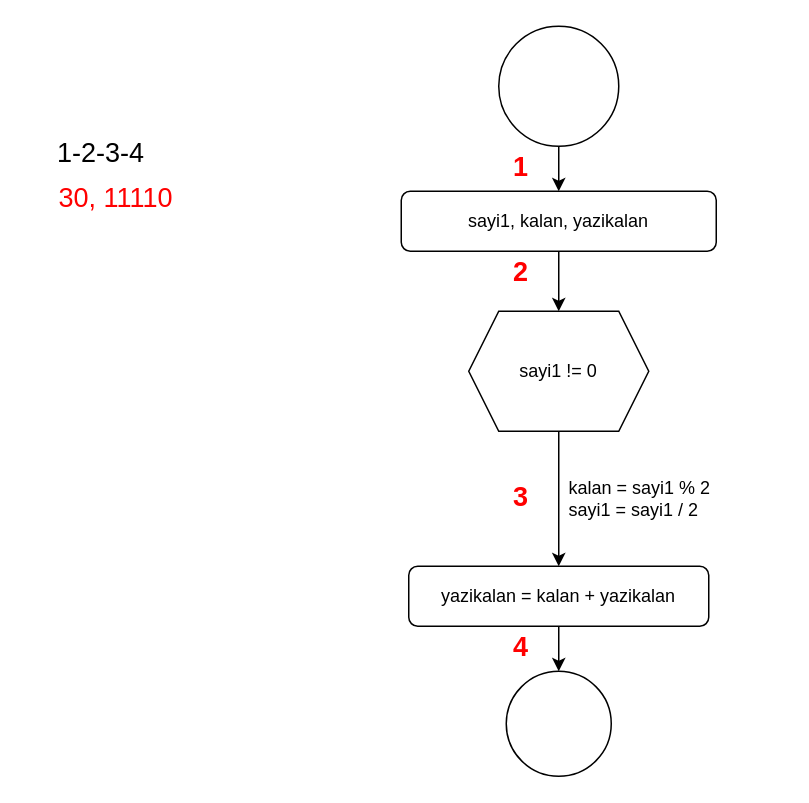
The diagram is 809 pixels wide and 803 high, and some of its shapes have lost their labels. Each missing label, with the centre of its shape:
"BAŞLA" goes at point 558,85.
"BİTİR" goes at point 558,723.
